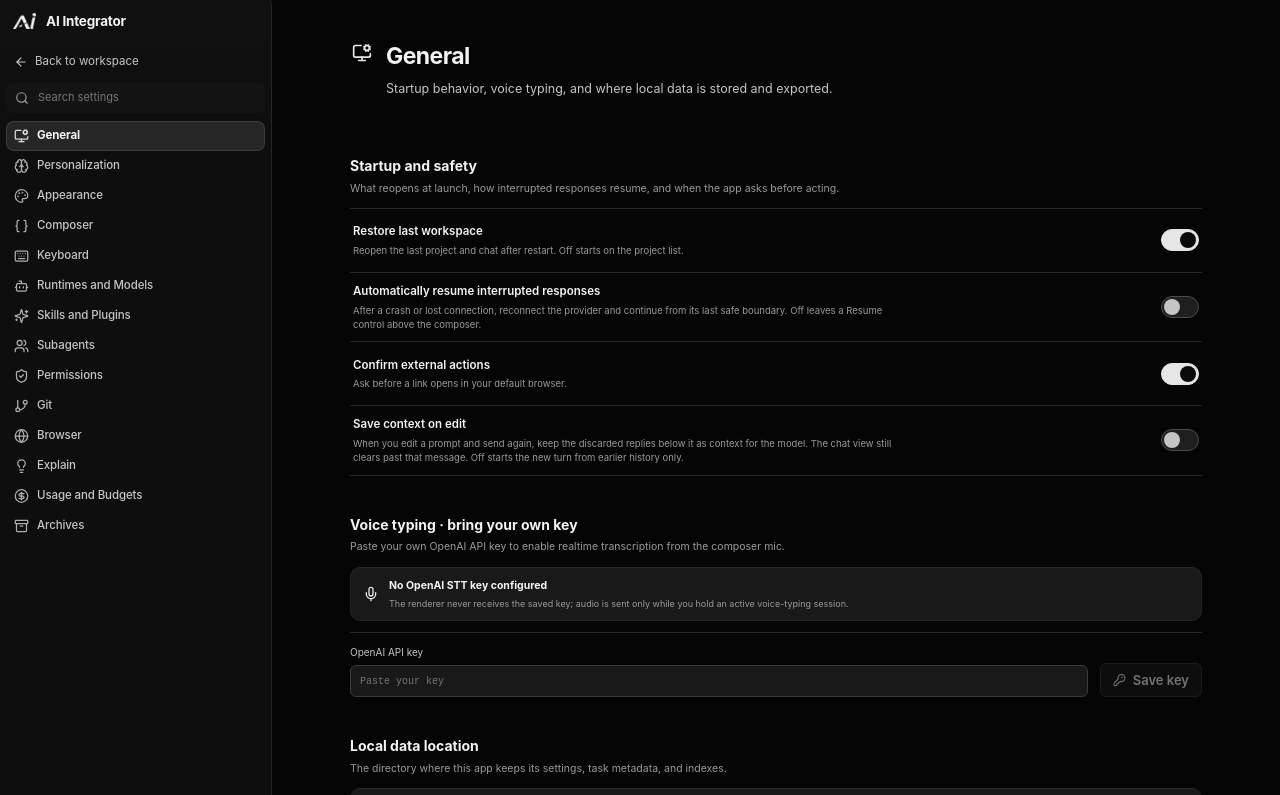
Test: Runtime Settings command disclosure › keeps personalization and memory transparent and editable
Click the button "Personalization". click: click(136, 166)
box: [6, 151, 265, 181]
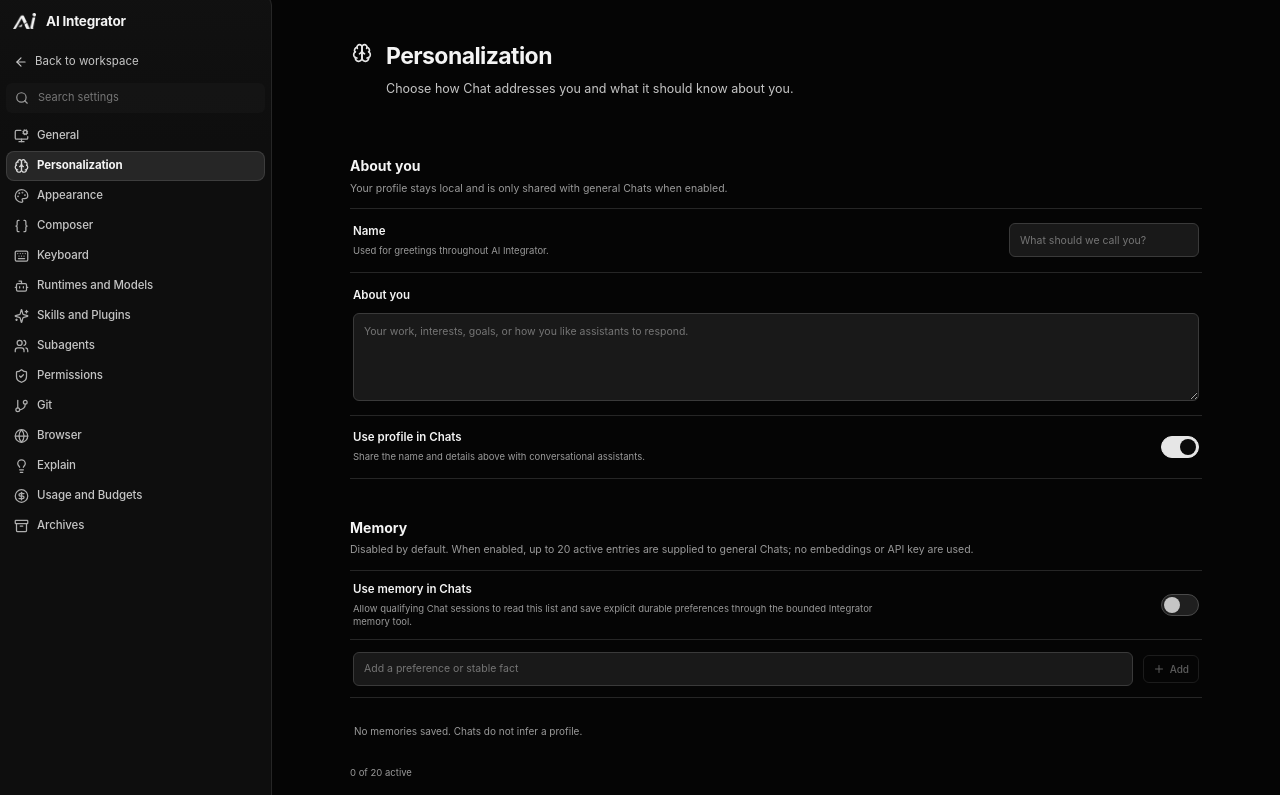
Type "Luke" into the field named "Your name". click: (1104, 240)
box: [1009, 224, 1199, 258]
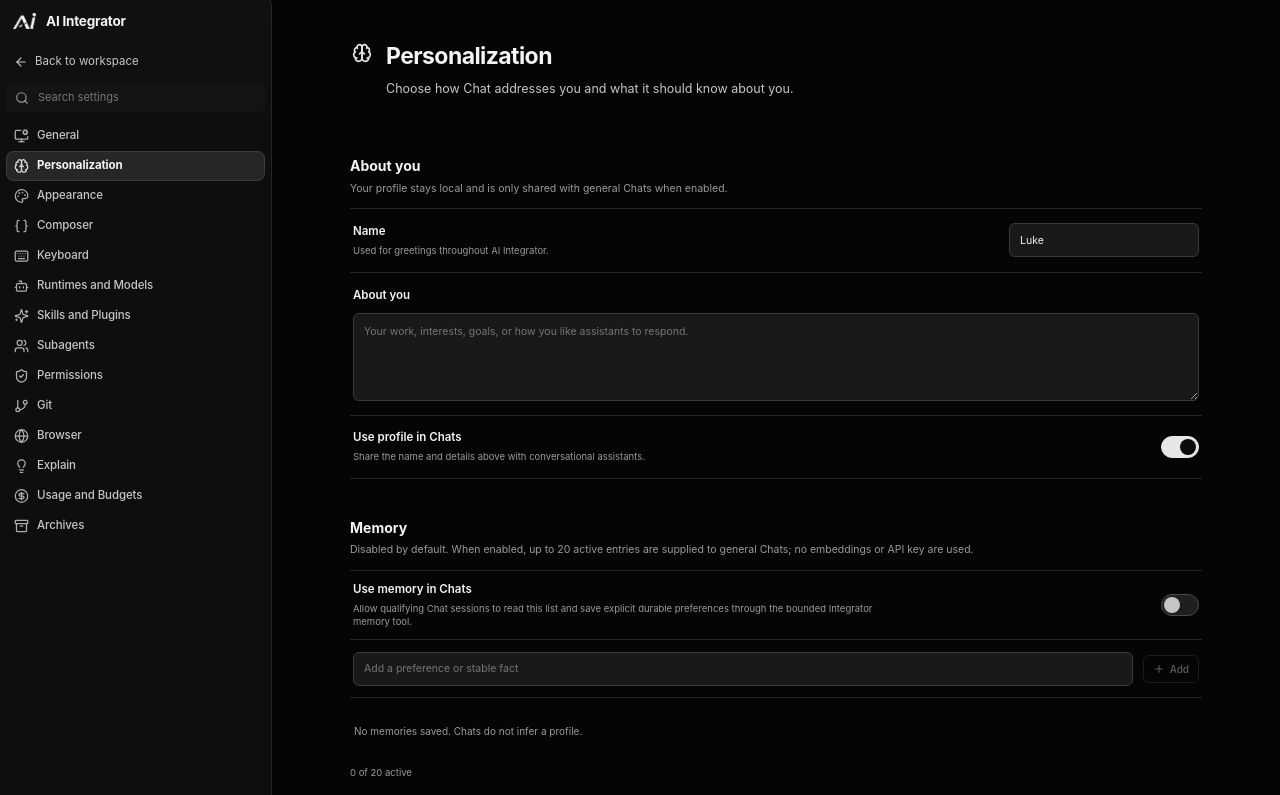
Replace the text in the text box labelled "About you" with "I build local-first AI products.". click: (776, 357)
box: [353, 313, 1199, 401]
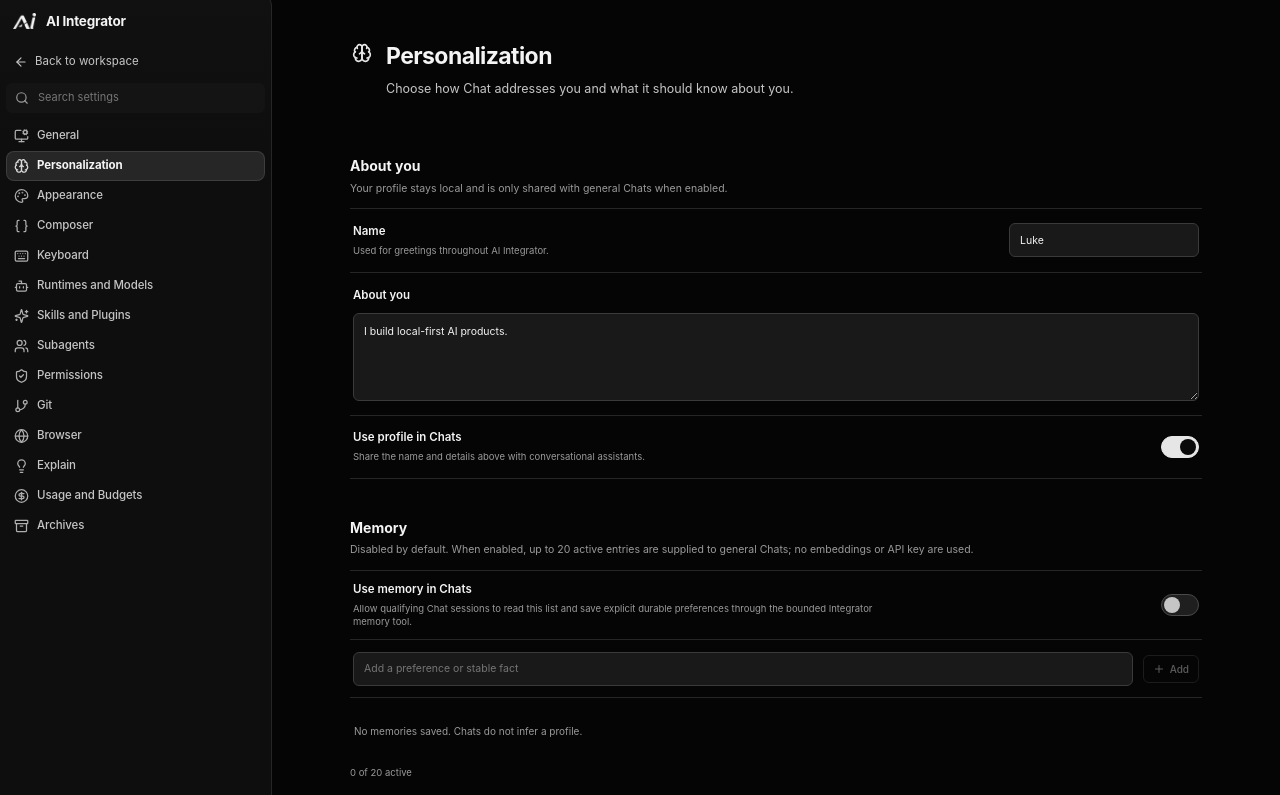
expect the switch named "Use memory in Chats" is not checked: met
Click the switch named "Use memory in Chats". click: click(1180, 605)
box: [1161, 594, 1199, 616]
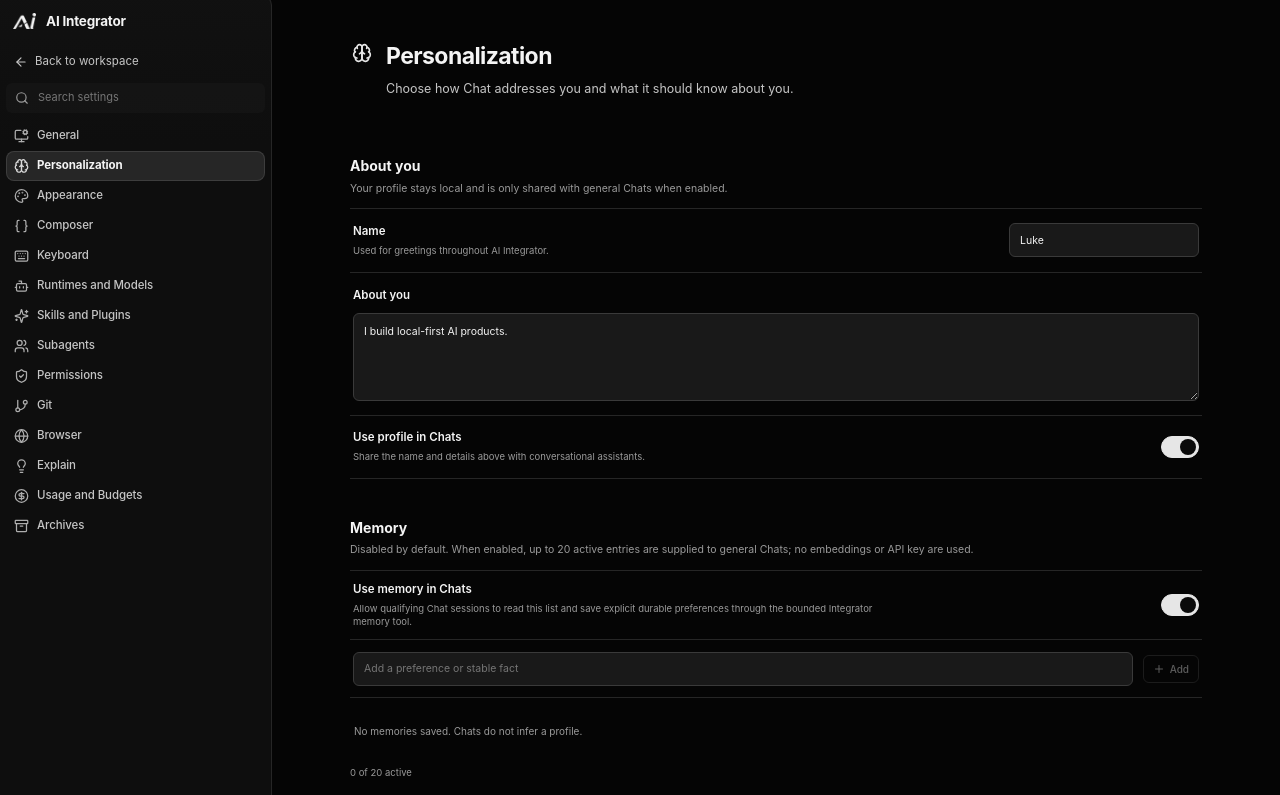
Type "Prefers concise release notes" into the field named "New memory". click: (743, 669)
box: [353, 652, 1133, 686]
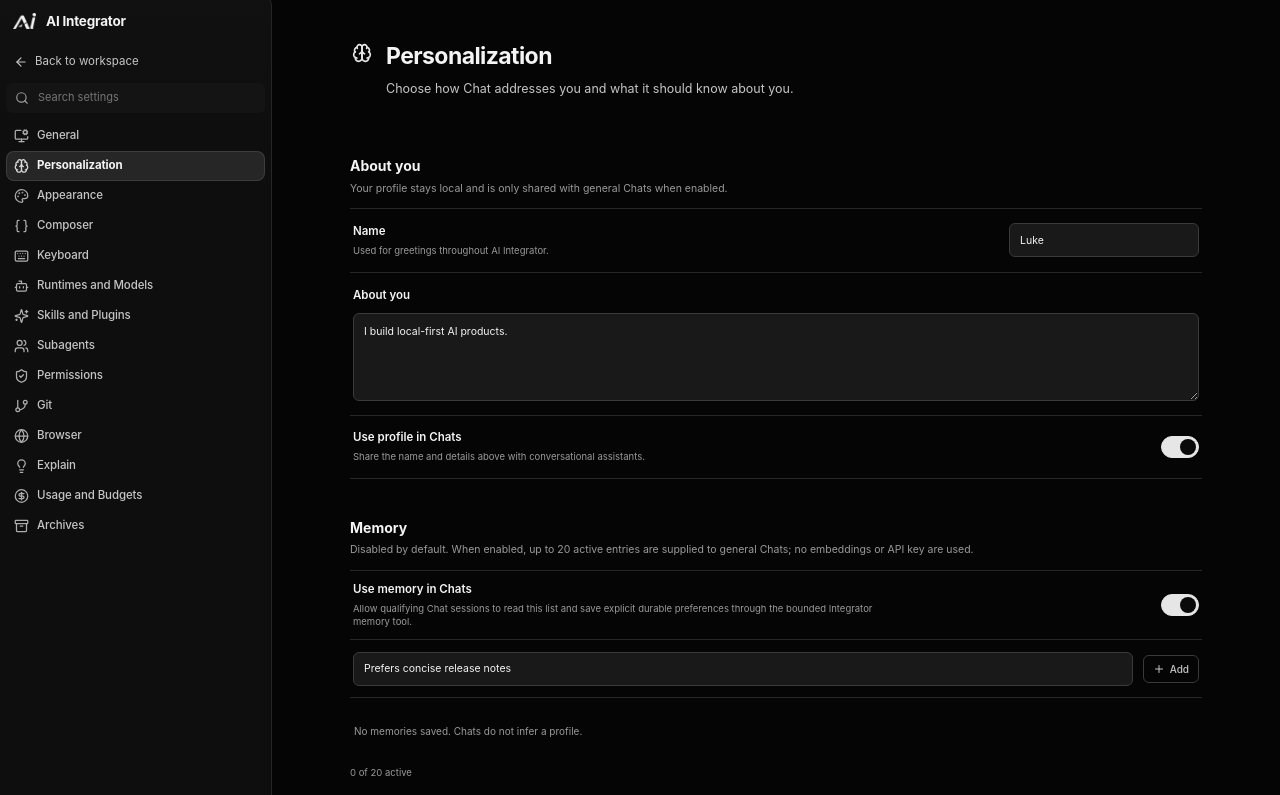
Click the button "Add". click: click(1171, 669)
box: [1143, 655, 1199, 683]
(page scrolled)
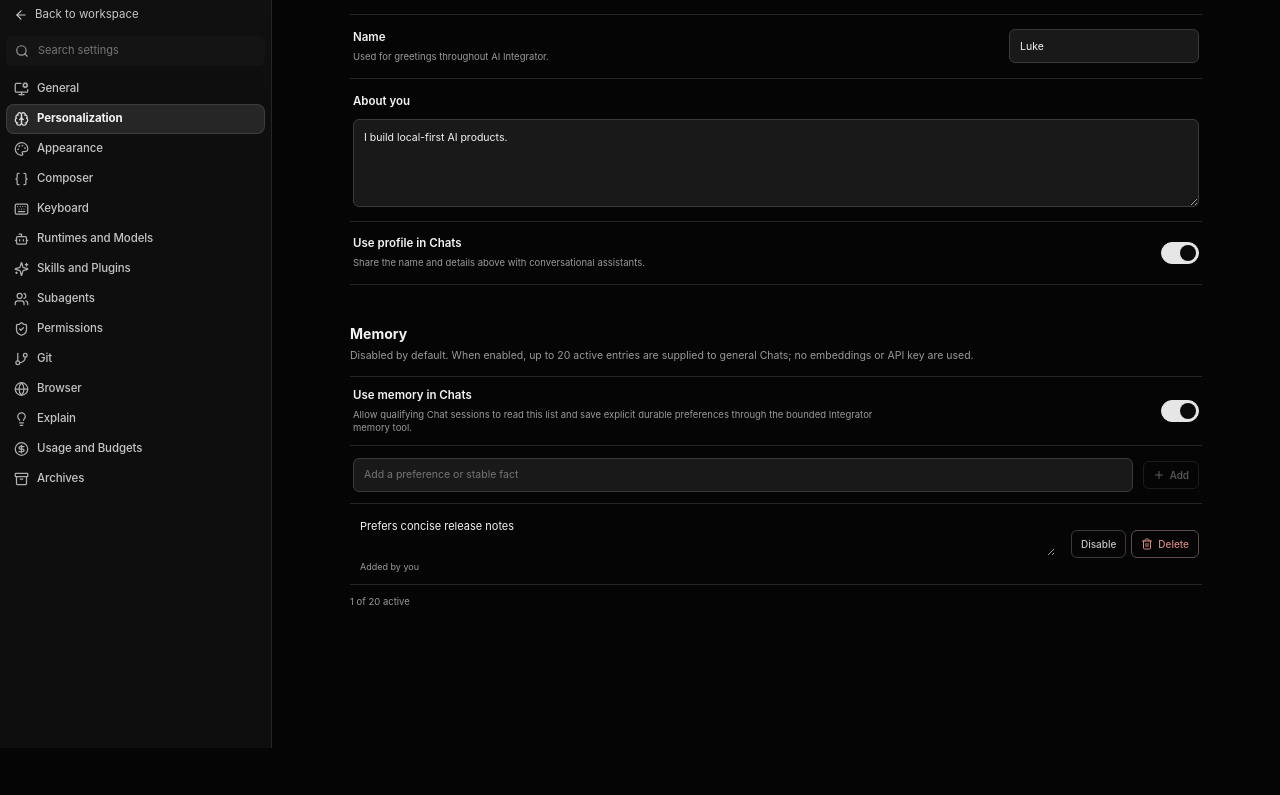
expect the text box showing "Prefers concise release notes" is shown: met, box [353, 514, 1055, 556]
expect the text "1 of 20 active" is shown: met, box [350, 596, 410, 607]
